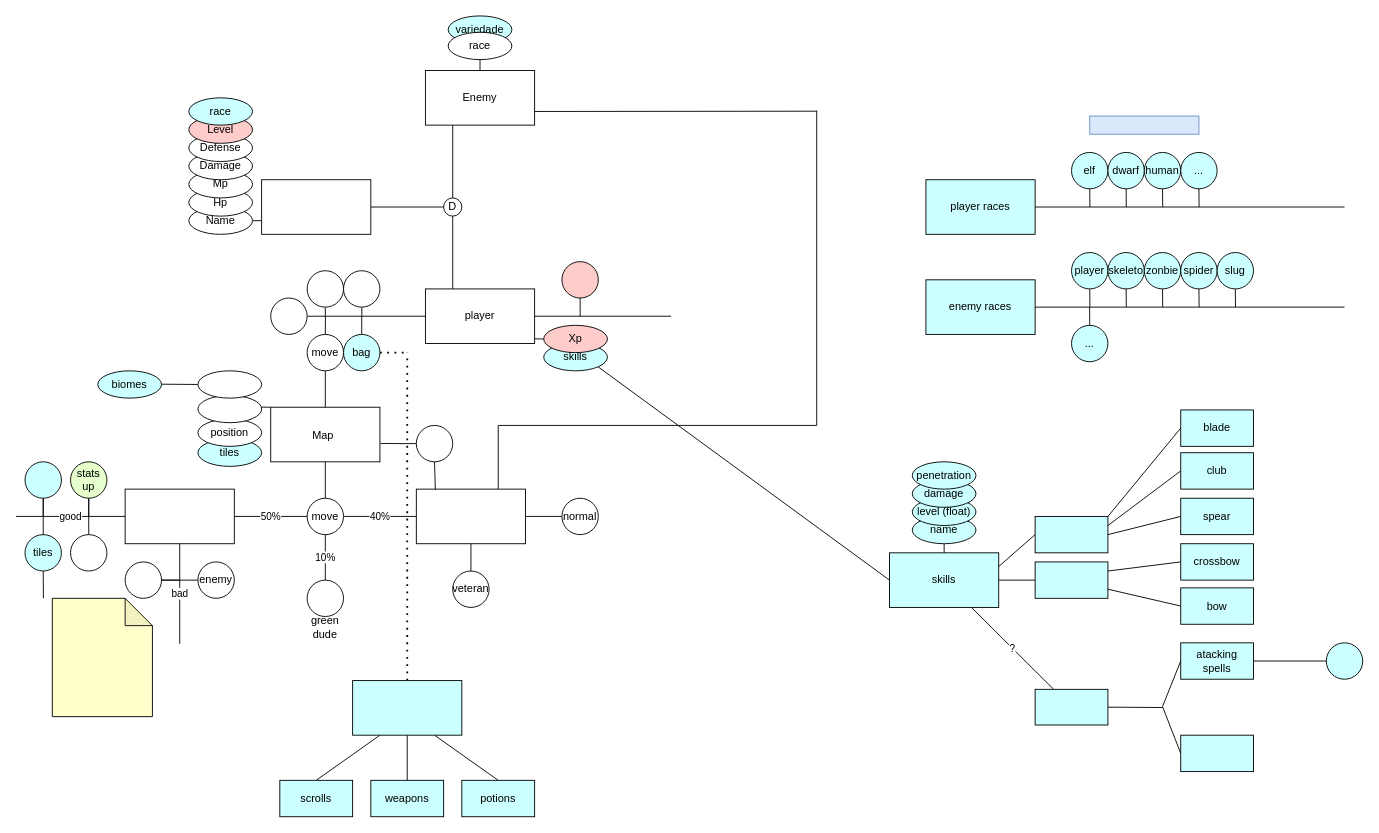
Some shapes in this 1379 by 833 pixel diagram are drawn without their labels. The shapes that lost their labels are listed below. From the top down, each one's centre as x and y in pixels, then its label:
At (x=1144, y=124): "Create my own races".
At (x=316, y=206): "Caracter".
At (x=325, y=288): "Save & Load".
At (x=361, y=288): "rest".
At (x=579, y=279): "level up".
At (x=288, y=315): "Status".
At (x=229, y=384): "Floors".
At (x=229, y=408): "Size".
At (x=434, y=443): "boss".
At (x=42, y=479): "item".
At (x=179, y=516): "event".
At (x=470, y=516): "combat".
At (x=1071, y=534): "melee".
At (x=88, y=552): "health/ mana".
At (x=143, y=579): "trap".
At (x=325, y=598): "nothing".
At (x=1071, y=579): "ranged".
At (x=101, y=657): "step on mushroom stranger from afar traps fountain (tile) walls ?".
At (x=1344, y=660): "expand".
At (x=407, y=707): "inventory".
At (x=1071, y=706): "magic".
At (x=1217, y=753): "heal spell".
